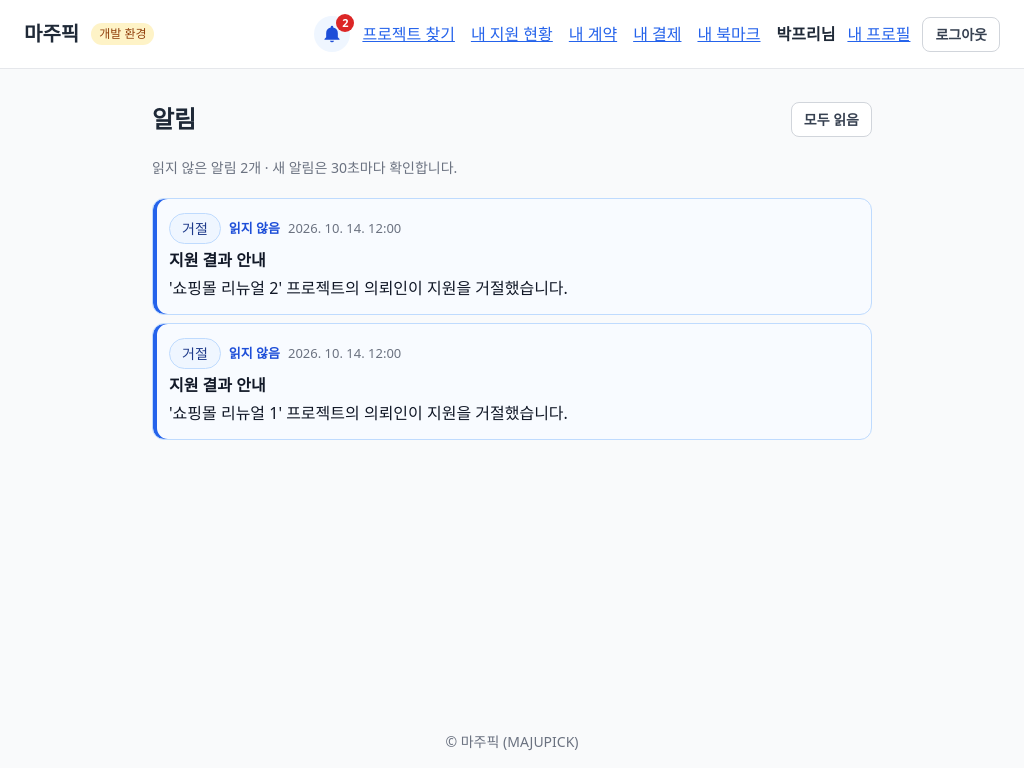
Test: notifications page › marks everything read after the server confirms and refreshes the list
This screenshot has width=1024, height=768.
Check: the list named "알림 목록" is shown, box [152,198,872,440]
Click the button "모두 읽음".
click(831, 119)  # box [791,102,872,136]
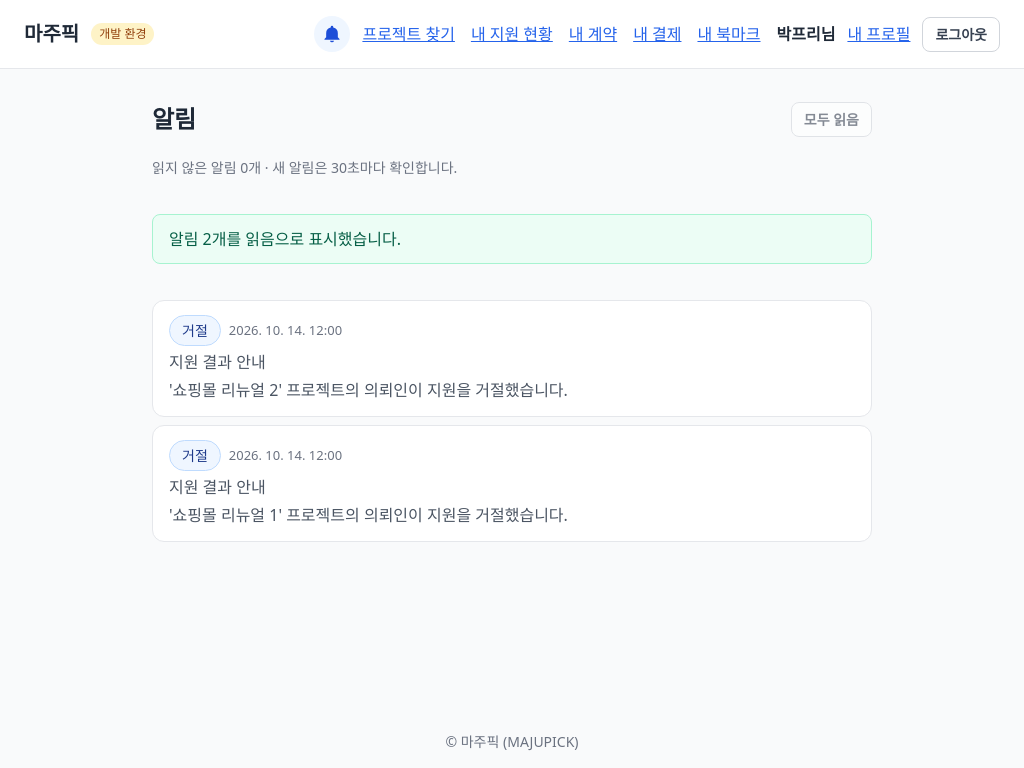
Check: the text "알림 2개를 읽음으로 표시했습니다." is shown, box [152,214,872,264]
Check: the text "읽지 않음" is gone
Check: the button "모두 읽음" is disabled, box [791,102,872,136]
